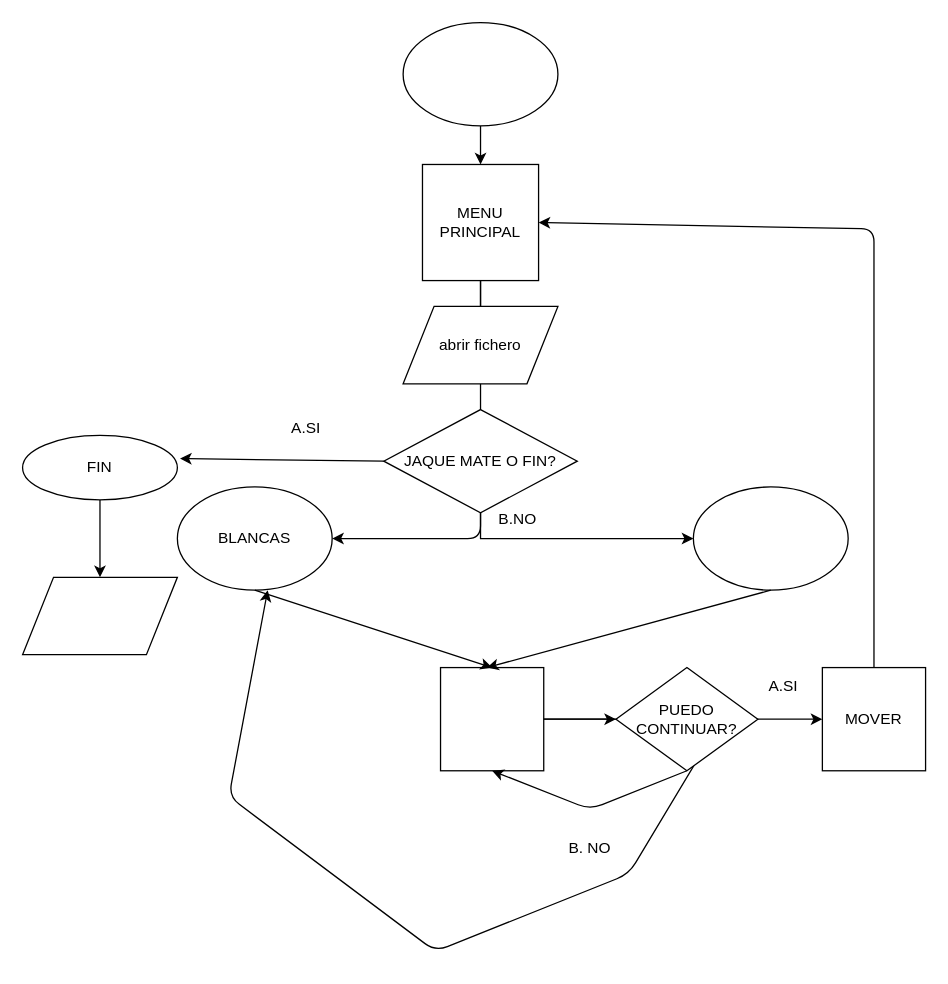
Image size: 948x984. Some labels were removed from this diagram. Here are the shapes that lost their labels. From the top down, the centre of each, then its label:
At point (480, 73): "INICIO".
At point (770, 538): "NEGRAS".
At point (99, 615): "cerrar fichero".
At point (491, 718): "ESPERAR JUGADA".
